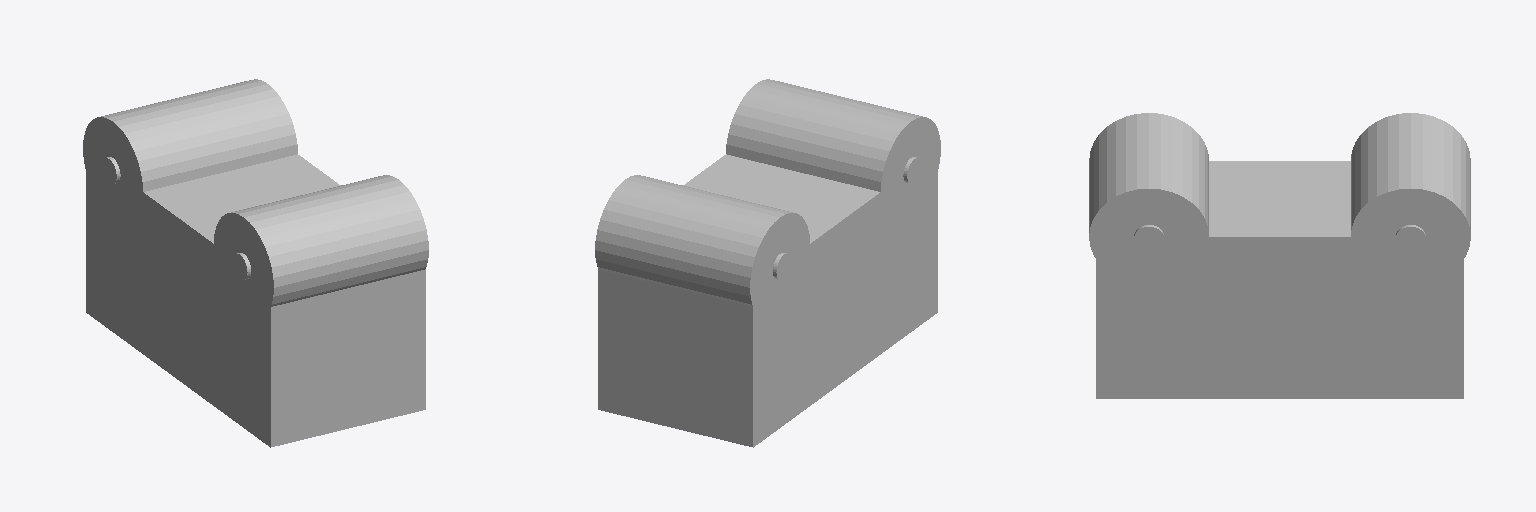
The model's file is body_palm_lpinvrpin.obj.
3 renders of one model, left to right at view 1: azimuth 30°, elevation 25°; view 2: azimuth 150°, elevation 25°; view 3: azimuth 270°, elevation 25°, orthographic.
Parts seen in each view (by area): view 1: body_palm_Cube.561, body_palm_lpinvrpin_Cylinder.087, rpin_Cylinder.088; view 2: body_palm_Cube.561, rpin_Cylinder.088, body_palm_lpinvrpin_Cylinder.087; view 3: body_palm_Cube.561, rpin_Cylinder.088, body_palm_lpinvrpin_Cylinder.087.
Boxes of the visible parts, box(x1,y1,x2,y2) form: body_palm_Cube.561: box(86, 154, 425, 447); body_palm_lpinvrpin_Cylinder.087: box(214, 175, 428, 318); rpin_Cylinder.088: box(83, 79, 297, 222); body_palm_Cube.561: box(598, 151, 937, 447); rpin_Cylinder.088: box(595, 175, 809, 317); body_palm_lpinvrpin_Cylinder.087: box(726, 79, 940, 217); body_palm_Cube.561: box(1096, 161, 1463, 398); rpin_Cylinder.088: box(1351, 113, 1470, 284); body_palm_lpinvrpin_Cylinder.087: box(1089, 113, 1208, 284).
Bounding box in the file's own units: 0.0336 × 0.0416 × 0.0683.